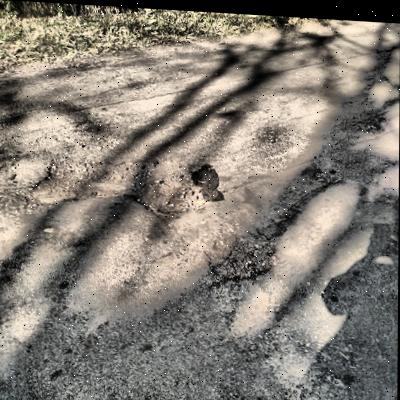pothole: (21, 148, 213, 221), (202, 224, 281, 279)
